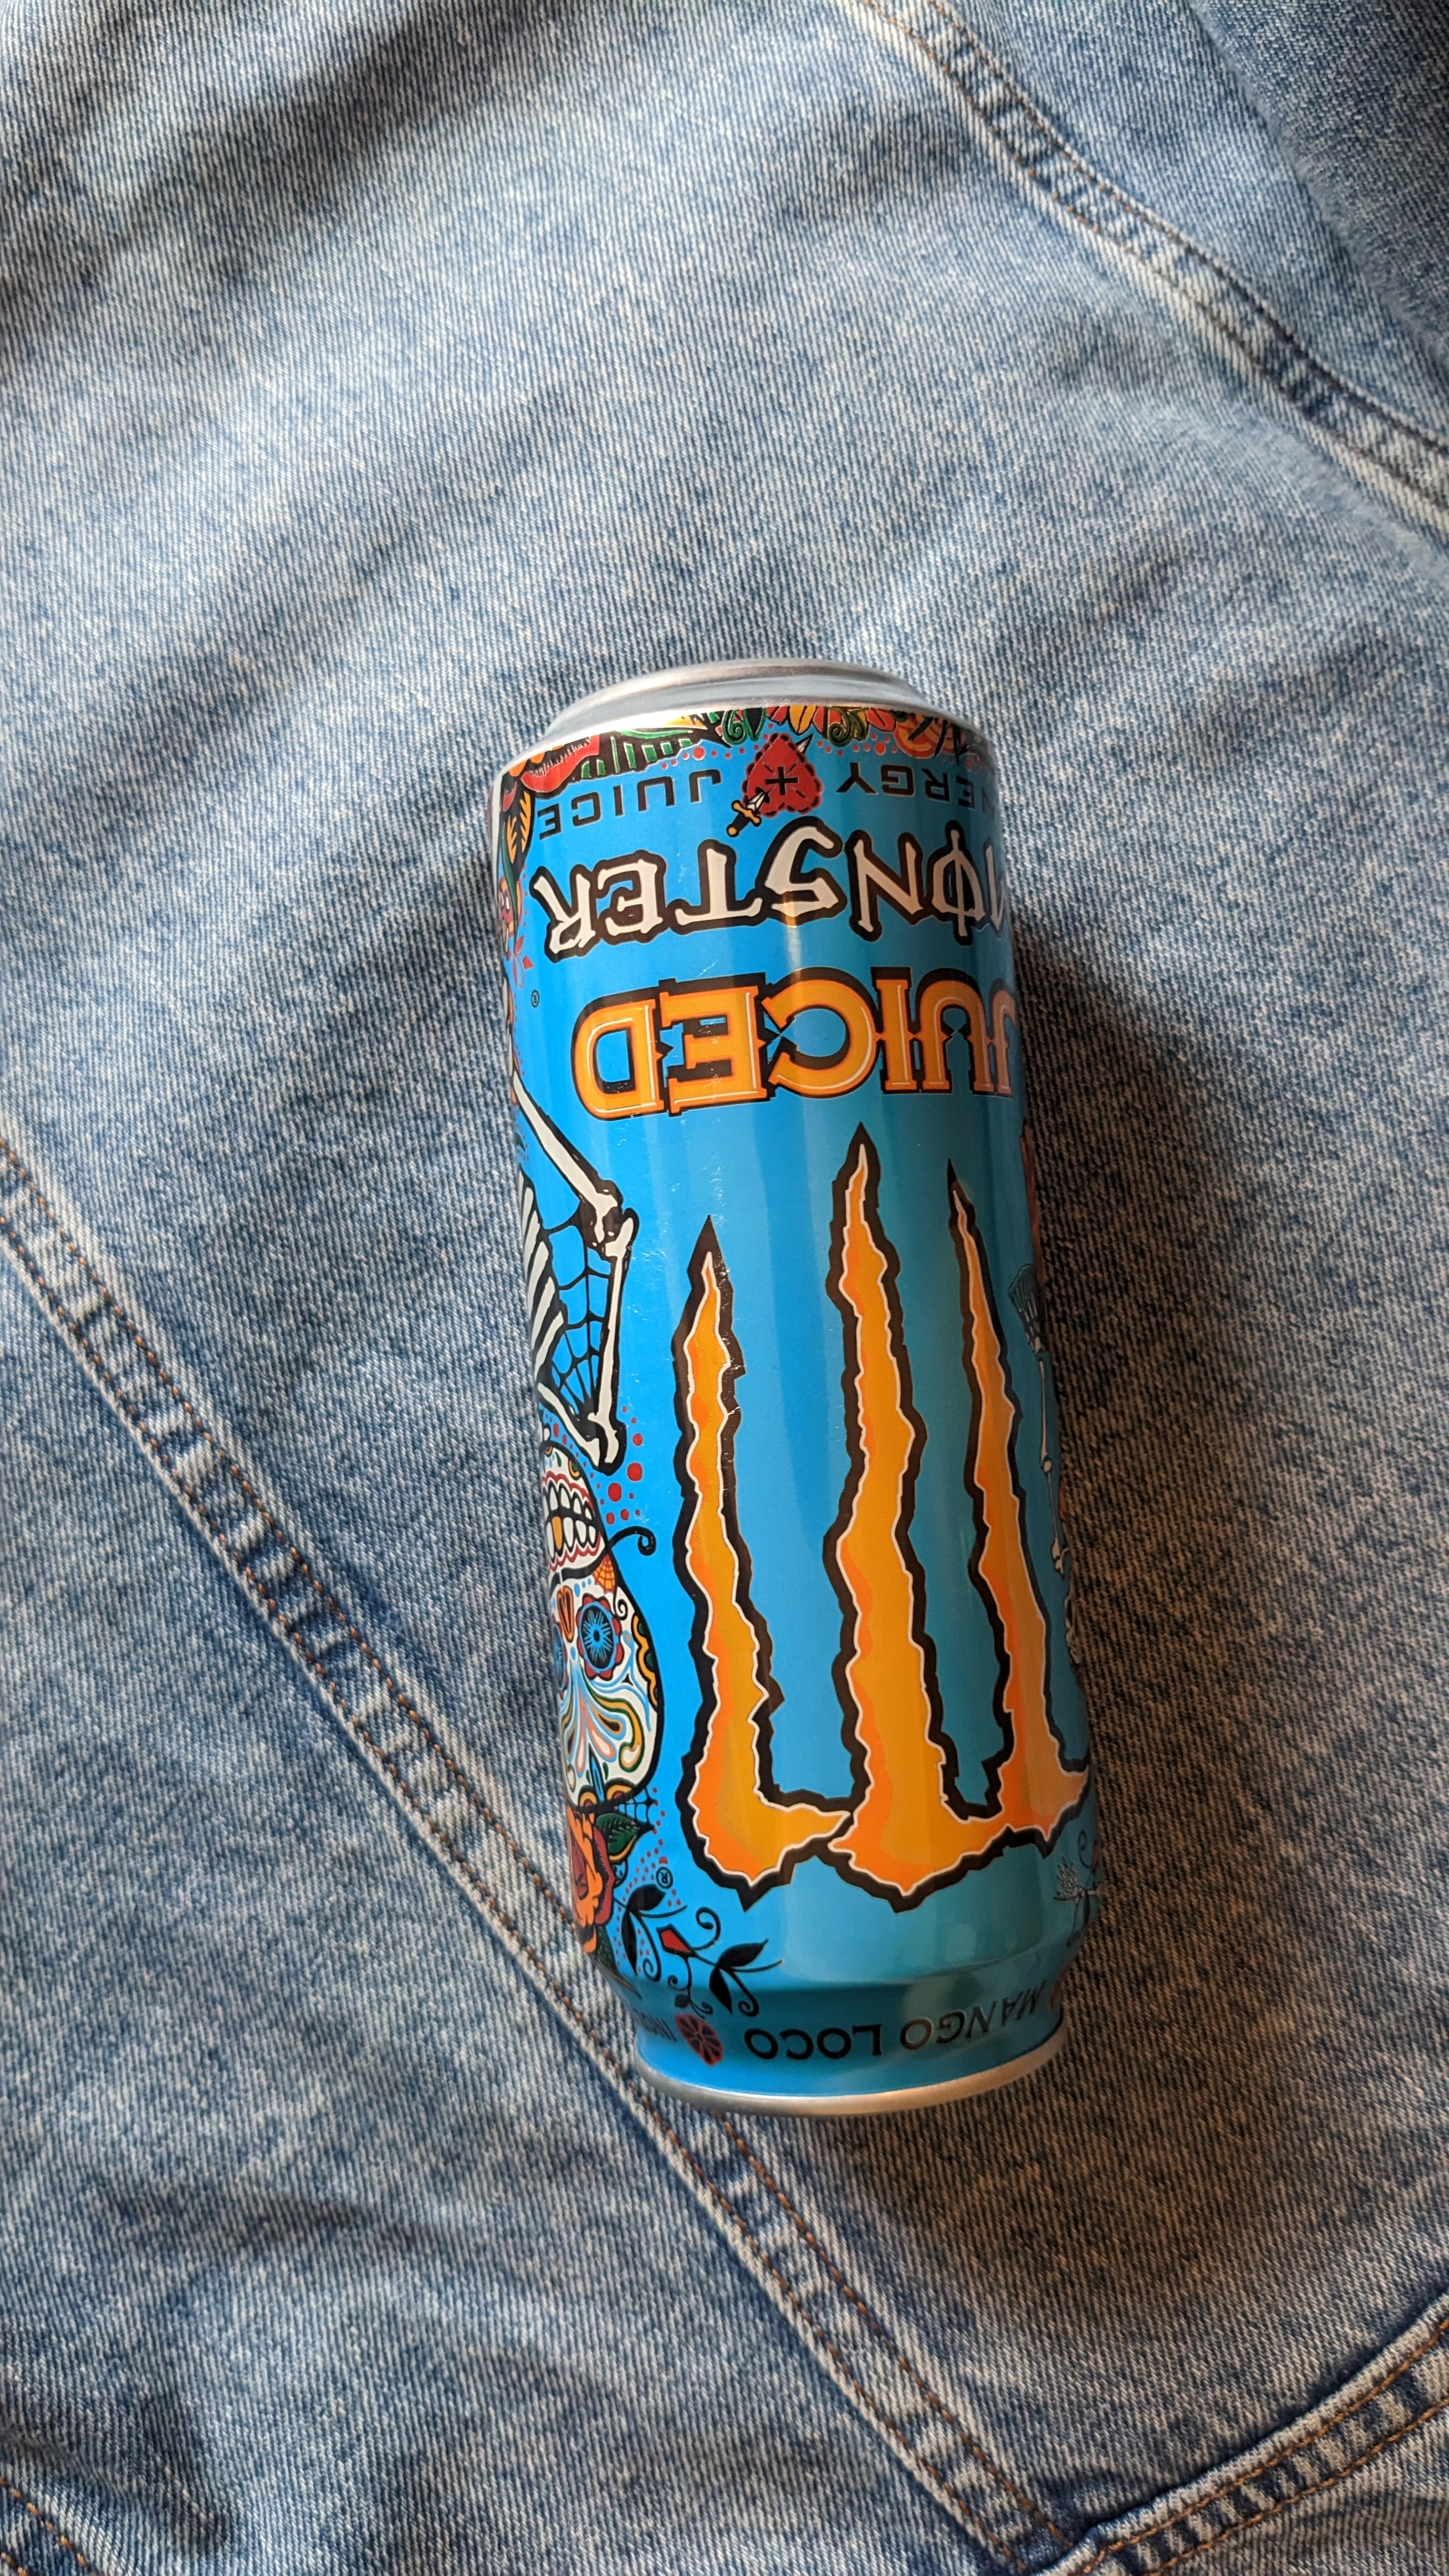monster: (464, 665, 1162, 2141)
